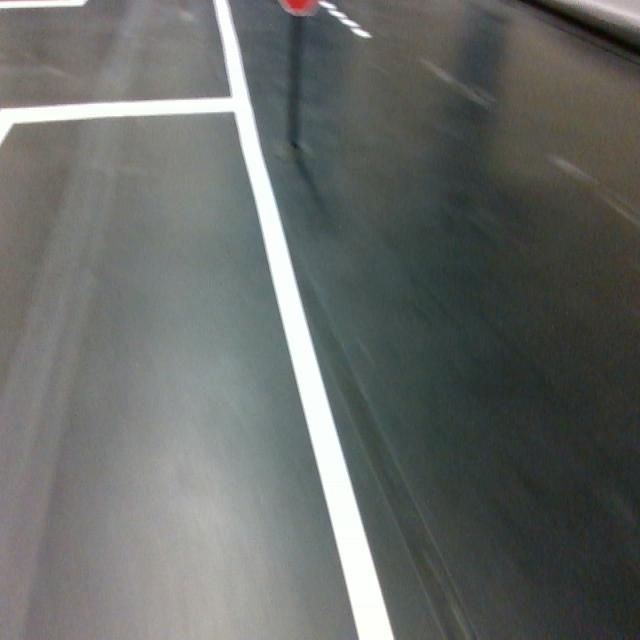stop-sign: (276, 0, 322, 19)
